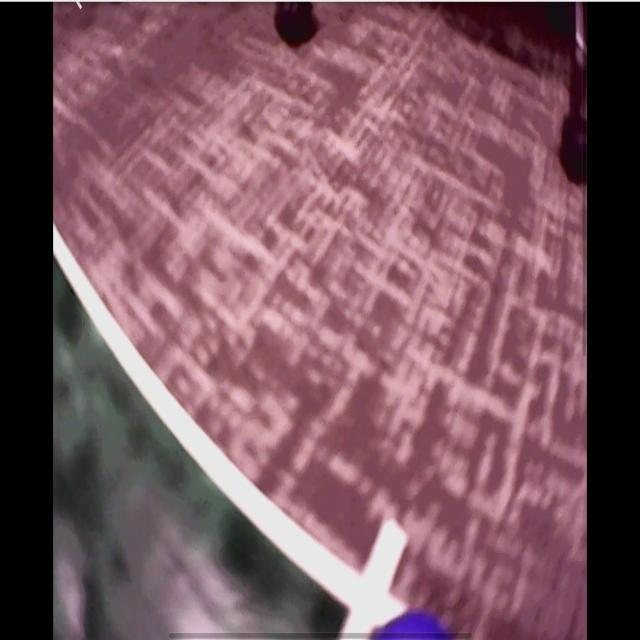ball: (376, 610, 449, 640)
